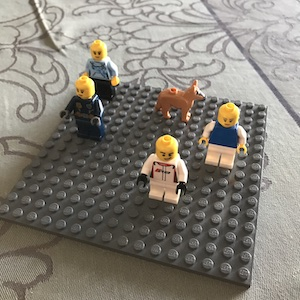Lego: (134, 134, 190, 205), (196, 101, 249, 171), (59, 75, 107, 144), (78, 38, 120, 104)
